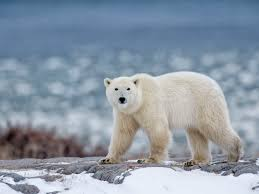PolarBear: (98, 64, 244, 171)
